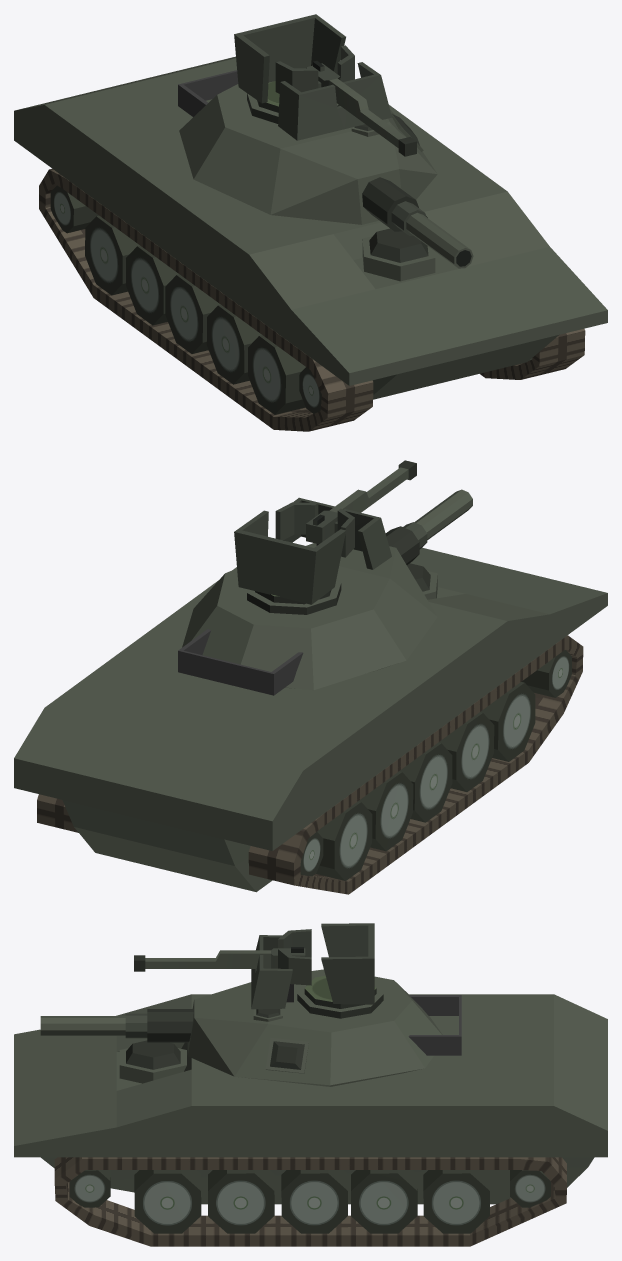
Rendered from TankB.fbx.
3 views of the same model, one above another, from view 1: azimuth 30°, elevation 25°; view 2: azimuth 150°, elevation 25°; view 3: azimuth 270°, elevation 25° (orthographic). The views are drawn at different scales.
Visible parts, largest first — view 1: TankB, TankBTurret, WheelRB, WheelRD, WheelRC, WheelRF, WheelRE, WheelRG, WheelRA; view 2: TankB, TankBTurret, WheelRF, WheelRC, WheelRB, WheelRE, WheelRD, WheelRA, WheelRG; view 3: TankB, TankBTurret, WheelLB, WheelLE, WheelLC, WheelLF, WheelLD, WheelLA, WheelLG.
Boxes of the visible parts, x1=… form: TankB: x1=14, y1=56, x2=607, y2=431; TankBTurret: x1=178, y1=14, x2=473, y2=268; WheelRB: x1=248, y1=335, x2=305, y2=414; WheelRD: x1=165, y1=274, x2=220, y2=353; WheelRC: x1=206, y1=305, x2=261, y2=384; WheelRF: x1=85, y1=215, x2=139, y2=295; WheelRE: x1=126, y1=245, x2=178, y2=325; WheelRG: x1=50, y1=185, x2=98, y2=233; WheelRA: x1=299, y1=367, x2=321, y2=413; TankB: x1=14, y1=543, x2=607, y2=894; TankBTurret: x1=178, y1=460, x2=472, y2=695; WheelRF: x1=316, y1=801, x2=372, y2=880; WheelRC: x1=438, y1=712, x2=494, y2=791; WheelRB: x1=480, y1=682, x2=535, y2=761; WheelRE: x1=358, y1=771, x2=413, y2=851; WheelRD: x1=399, y1=742, x2=452, y2=822; WheelRA: x1=521, y1=650, x2=571, y2=697; WheelRG: x1=300, y1=832, x2=323, y2=876; TankB: x1=14, y1=994, x2=607, y2=1246; TankBTurret: x1=40, y1=923, x2=461, y2=1086; WheelLB: x1=134, y1=1170, x2=201, y2=1233; WheelLE: x1=351, y1=1170, x2=417, y2=1233; WheelLC: x1=208, y1=1170, x2=274, y2=1233; WheelLF: x1=423, y1=1170, x2=489, y2=1233; WheelLD: x1=281, y1=1170, x2=347, y2=1233; WheelLA: x1=69, y1=1170, x2=110, y2=1207; WheelLG: x1=510, y1=1170, x2=550, y2=1207.
Bounding box in the file's own units: 277 × 288 × 621.
